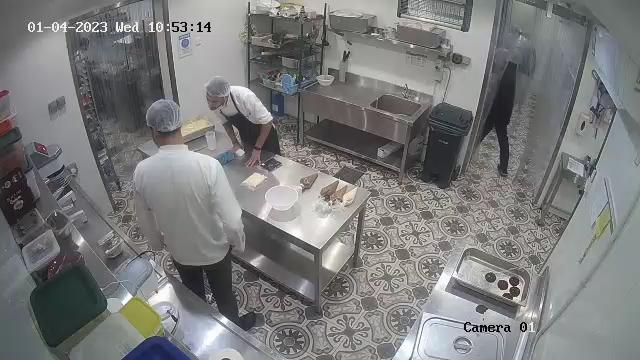no_apron: (219, 88, 282, 155)
